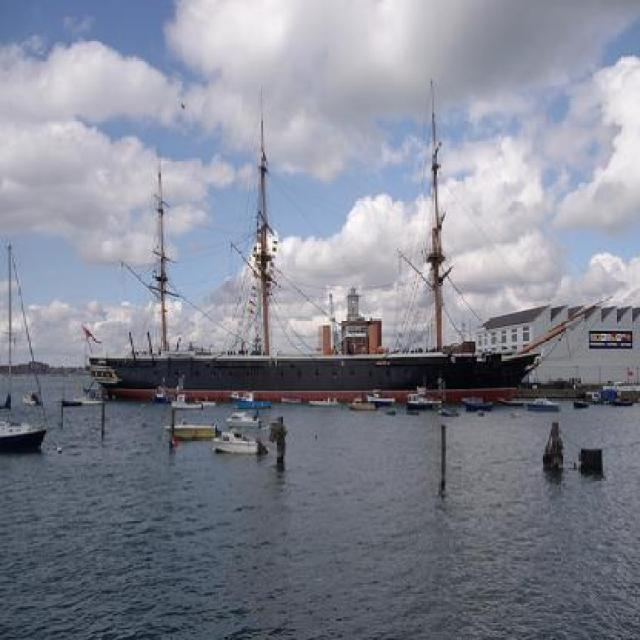ship: (83, 76, 539, 396), (1, 243, 50, 452), (208, 427, 266, 455), (164, 418, 218, 440), (169, 376, 202, 410), (224, 410, 262, 427), (523, 396, 560, 410), (345, 394, 373, 408)
